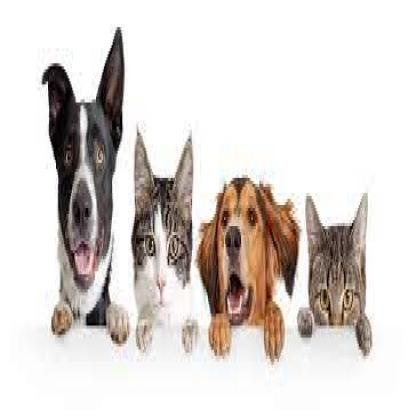cat: (129, 124, 202, 386)
dog: (34, 56, 127, 320)
